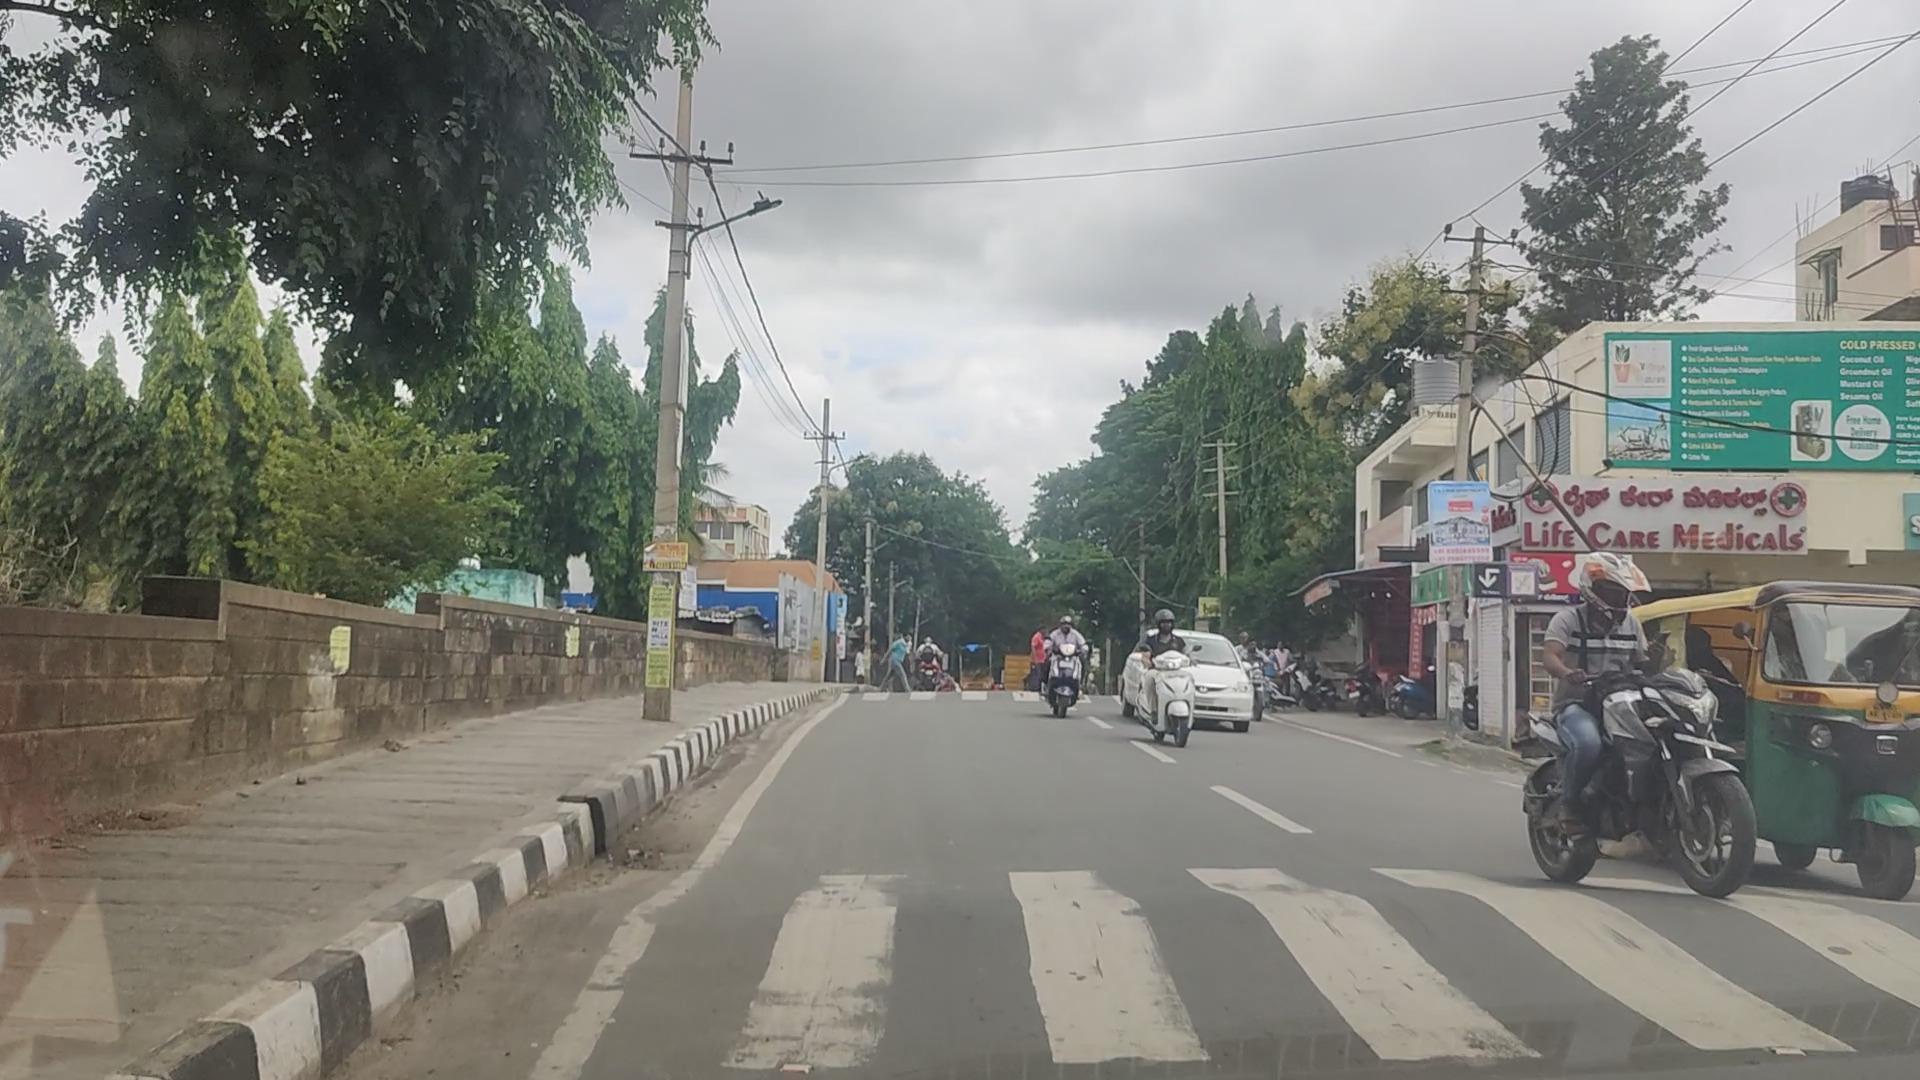LMV: (1551, 558, 1743, 869)
SpeedBump: (568, 802, 1917, 1075)
